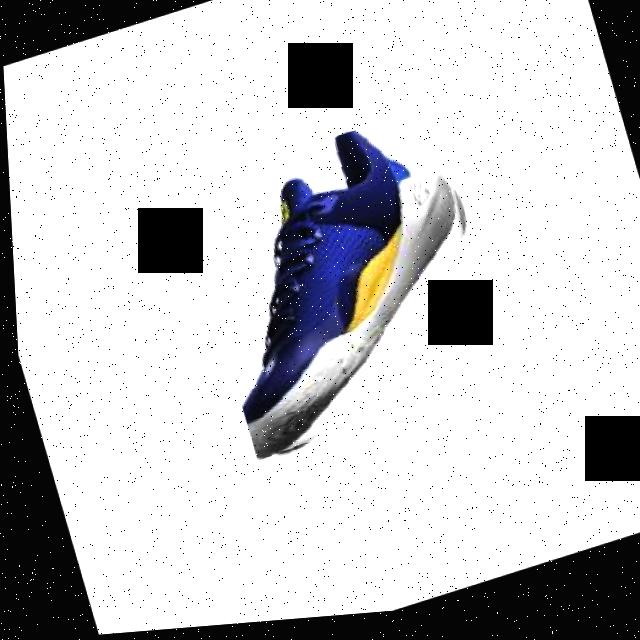shoe: (174, 107, 514, 469)
